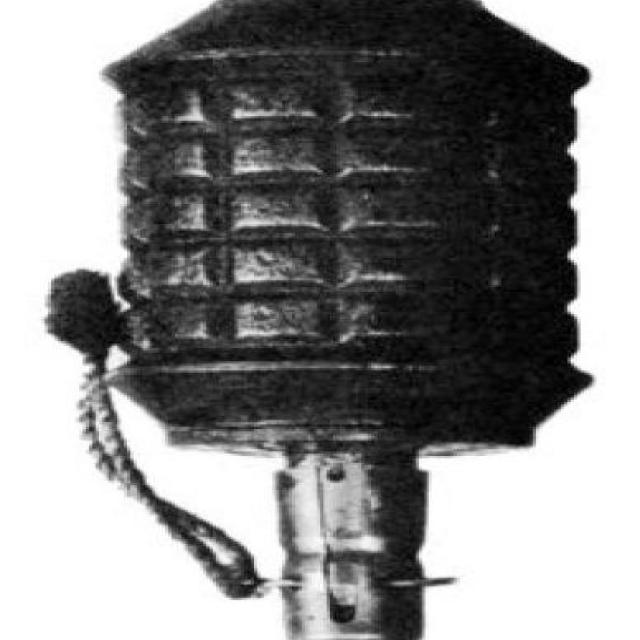grenade: (49, 2, 600, 640)
